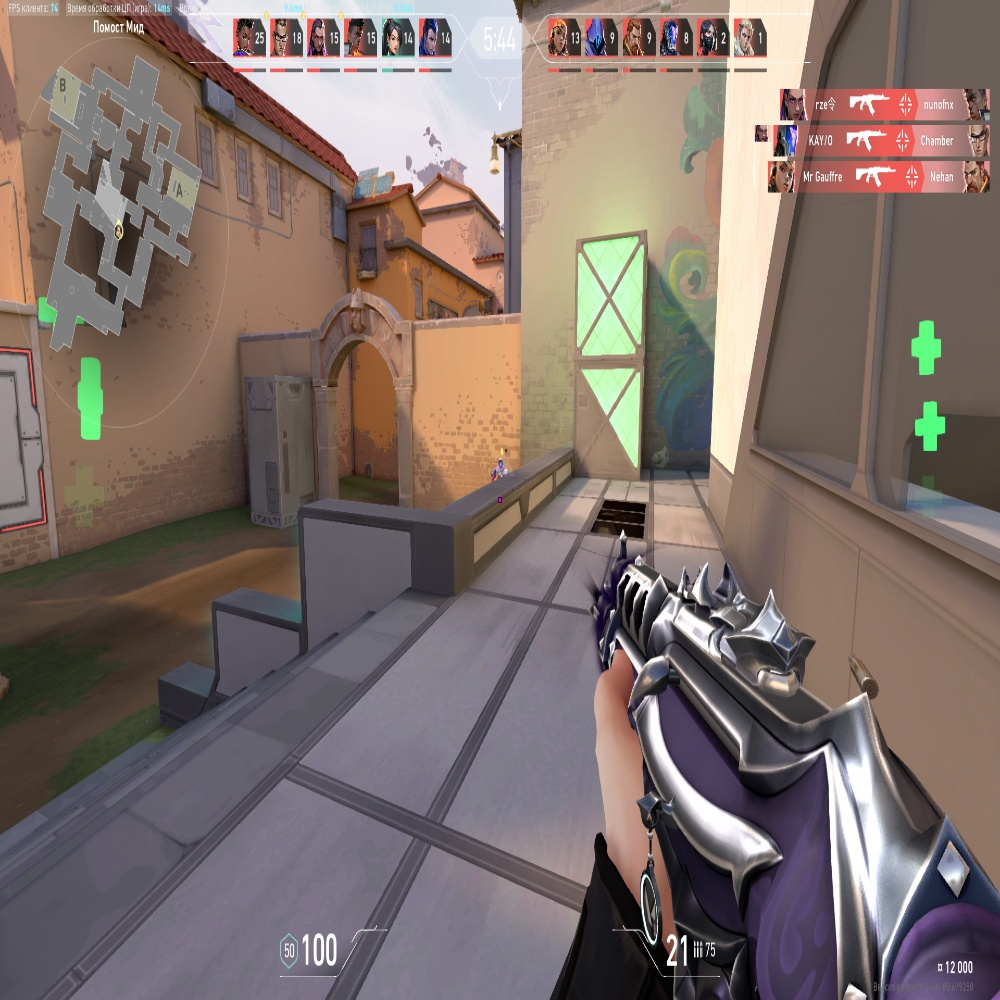body: (492, 471, 509, 478)
head: (498, 459, 504, 470)
